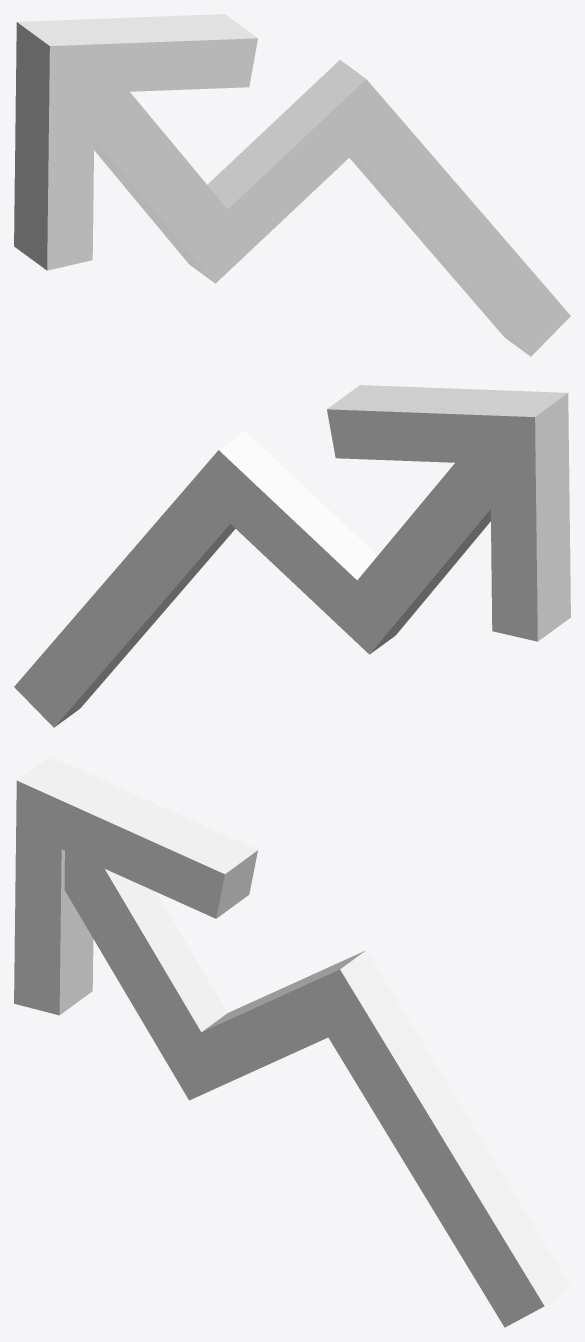
The model's file is speedup.fbx.
3 views of the same model, one above another, from view 1: azimuth 30°, elevation 25°; view 2: azimuth 150°, elevation 25°; view 3: azimuth 330°, elevation 25° (orthographic).
Visible parts, largest first — view 1: Line005; view 2: Line005; view 3: Line005.
Part boxes in pixels (<box>): Line005: <box>14,14,570,356</box>; Line005: <box>14,385,570,727</box>; Line005: <box>14,756,570,1327</box>.
Bounding box in the file's own units: 74.02 × 57.89 × 8.06.
